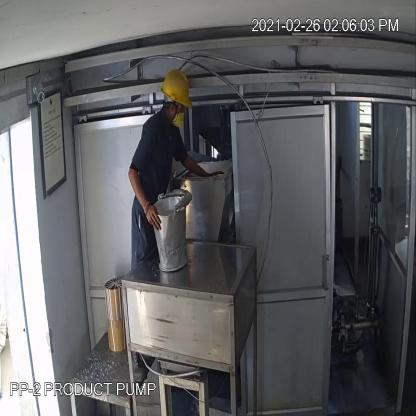helmet: (160, 68, 194, 111)
